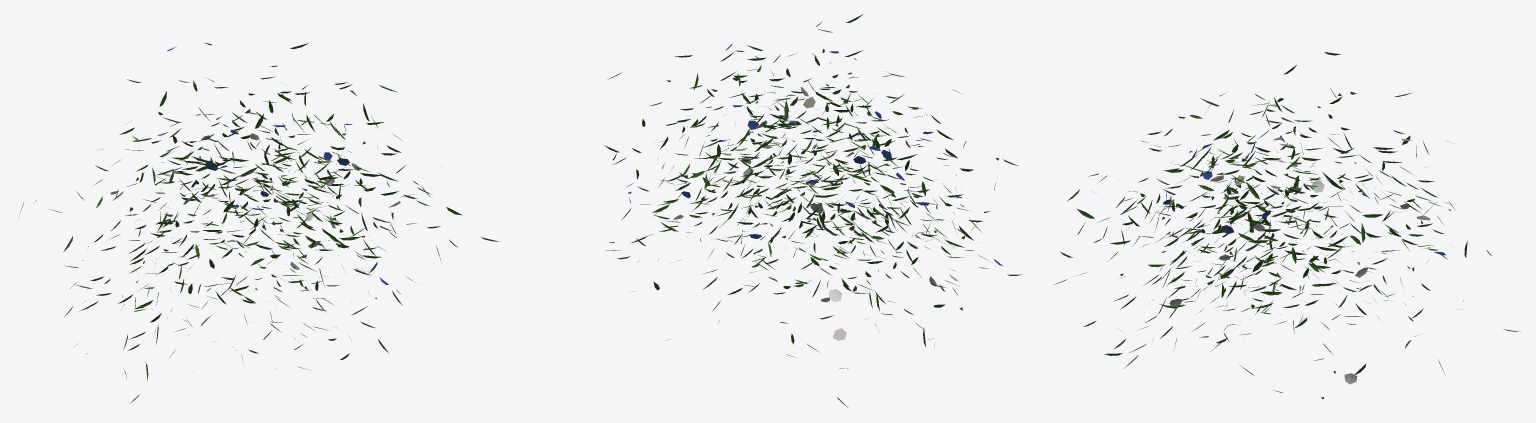
File: SM_Tree_garden_flowers_3.glb
3 views of the same model, side by side, from view 1: azimuth 30°, elevation 25°; view 2: azimuth 150°, elevation 25°; view 3: azimuth 270°, elevation 25° (orthographic). The views are drawn at different scales.
Parts seen in each view (by area): view 1: SM_Tree_garden_flowers_3; view 2: SM_Tree_garden_flowers_3; view 3: SM_Tree_garden_flowers_3.
Part boxes in pixels (x1,y1,x2,y2): SM_Tree_garden_flowers_3: [20, 42, 500, 403]; SM_Tree_garden_flowers_3: [604, 14, 1021, 407]; SM_Tree_garden_flowers_3: [1054, 52, 1520, 399].
Bounding box in the file's own units: 1.22 × 0.9946 × 1.21.
